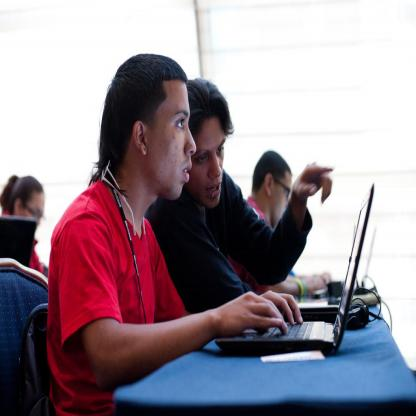board: (273, 183, 391, 358), (0, 216, 38, 266), (284, 304, 340, 324)
